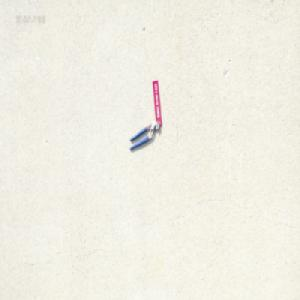Label: (152, 79, 162, 127)
Pliers: (129, 120, 160, 151)
